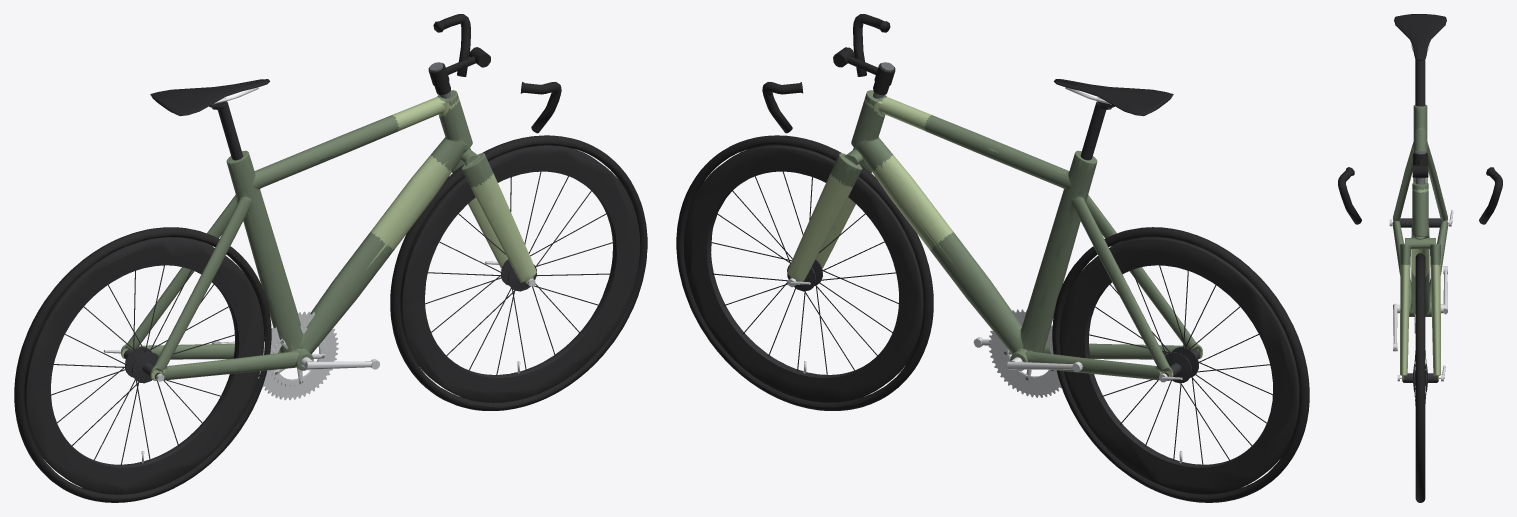
Rendered from bike_lite.glb.
3 renders of one model, left to right at view 1: azimuth 30°, elevation 25°; view 2: azimuth 150°, elevation 25°; view 3: azimuth 270°, elevation 25°, orthographic. The views are drawn at different scales.
Visible parts, largest first — view 1: saddle, fork, tyre_front, dropbar; view 2: saddle, fork, tyre_front, dropbar; view 3: fork, dropbar, tyre_front, saddle.
Boxes of the visible parts, x1=… form: saddle: x1=24, y1=79, x2=640, y2=494; fork: x1=121, y1=90, x2=536, y2=380; tyre_front: x1=14, y1=135, x2=647, y2=502; dropbar: x1=51, y1=14, x2=613, y2=465; saddle: x1=683, y1=79, x2=1299, y2=494; fork: x1=787, y1=90, x2=1202, y2=380; tyre_front: x1=676, y1=135, x2=1309, y2=502; dropbar: x1=710, y1=14, x2=1272, y2=465; fork: x1=1392, y1=104, x2=1448, y2=381; dropbar: x1=1338, y1=44, x2=1502, y2=405; tyre_front: x1=1415, y1=253, x2=1425, y2=502; saddle: x1=1394, y1=14, x2=1446, y2=60.
Bounding box in the file's own units: 1.66 × 0.9824 × 0.445.
4 materials, 4 textured.
